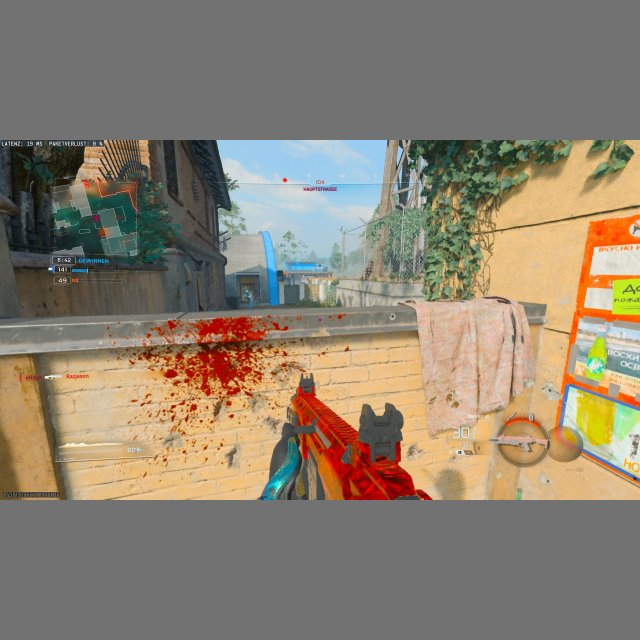player: (243, 289, 252, 308)
